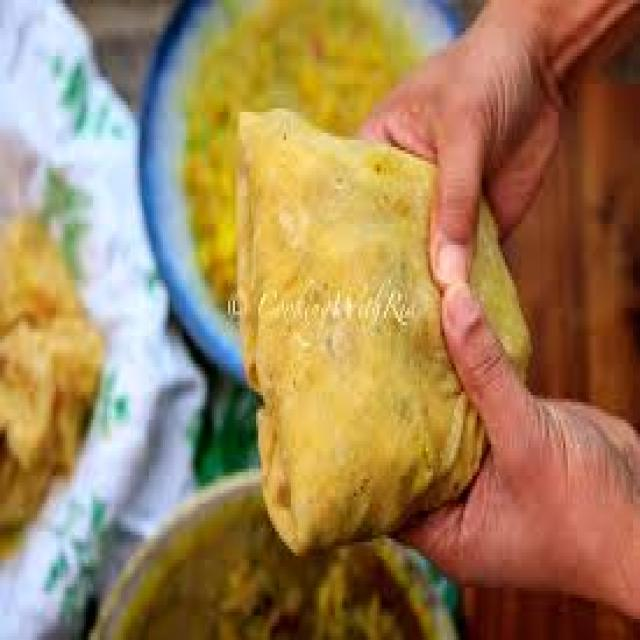ROTI: (240, 108, 484, 553), (472, 206, 528, 378)
